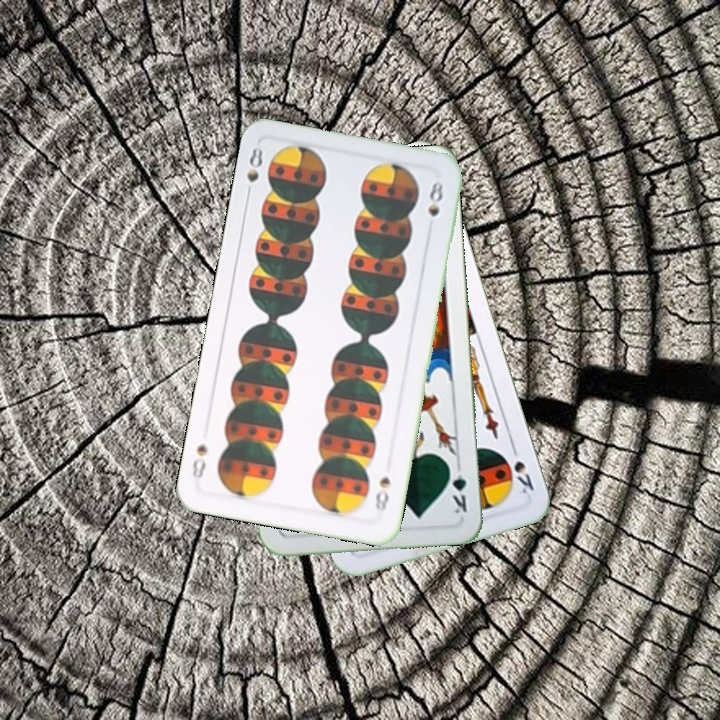GK: (445, 459, 470, 517)
S8: (242, 143, 266, 200), (370, 473, 393, 516)
SK: (500, 440, 537, 497)
